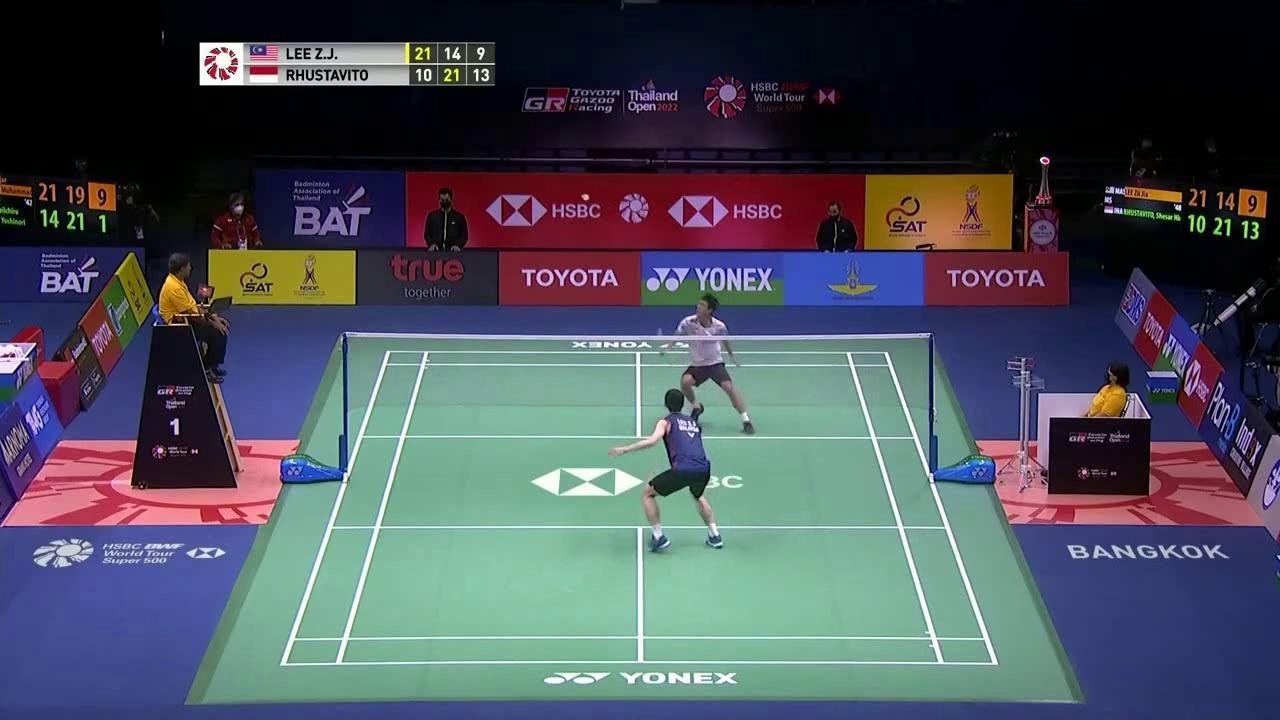racket: (645, 463, 668, 481), (655, 325, 667, 355)
shuttle: (581, 192, 592, 202)
